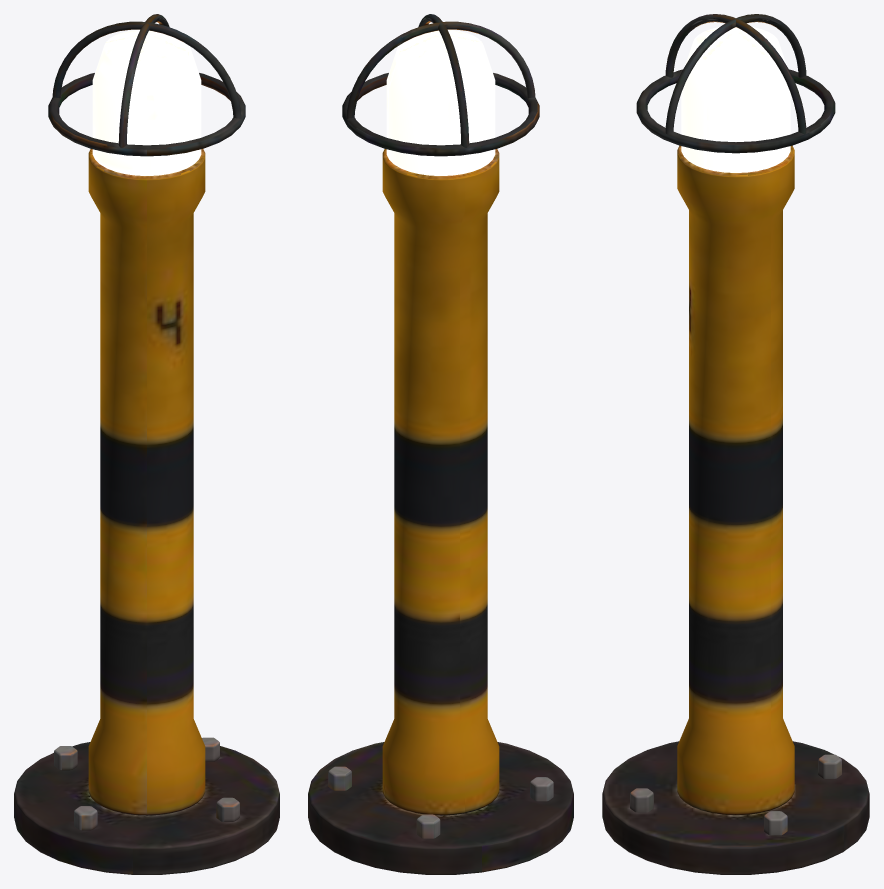
File: pad_beacon.glb
3 renders of one model, left to right at view 1: azimuth 30°, elevation 25°; view 2: azimuth 150°, elevation 25°; view 3: azimuth 270°, elevation 25°, orthographic.
Visible parts, largest first — view 1: pad_beacon; view 2: pad_beacon; view 3: pad_beacon.
Boxes of the visible parts, x1,y1,x2,y2 form: pad_beacon: (14, 14, 279, 874); pad_beacon: (308, 14, 573, 874); pad_beacon: (602, 14, 869, 874).
Size of the model in its own units: 0.3381 by 1.12 by 0.34.
2 materials, 2 textured.
